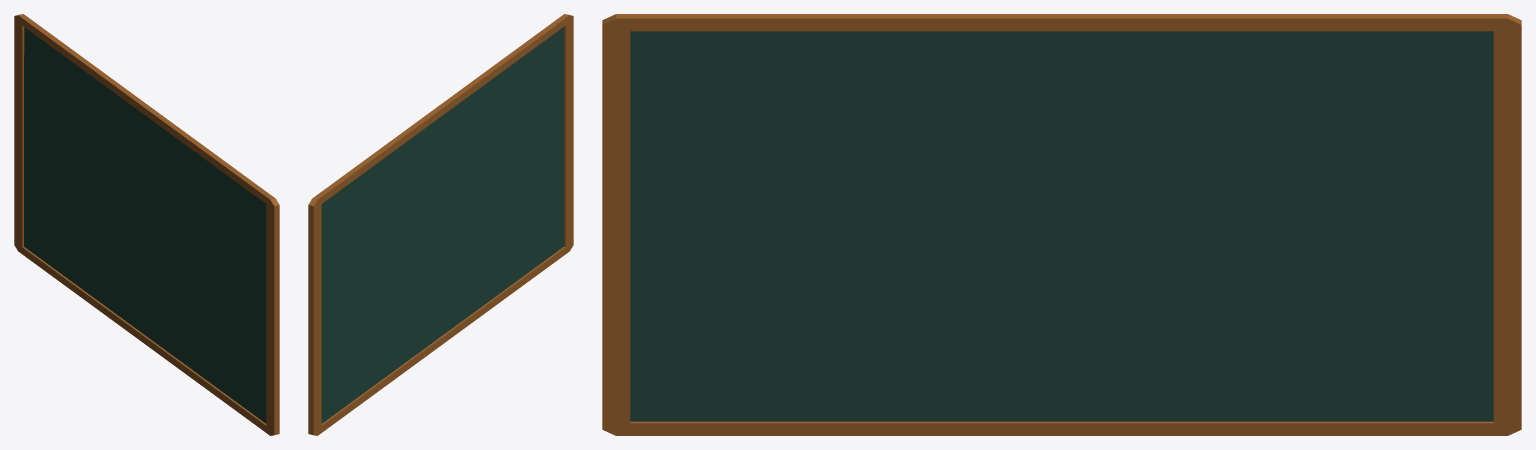
Rendered from Lavagna v2.fbx.
3 views of the same model, side by side, from view 1: azimuth 30°, elevation 25°; view 2: azimuth 150°, elevation 25°; view 3: azimuth 270°, elevation 25° (orthographic). The views are drawn at different scales.
Visible parts, largest first — view 1: Lavagna.001, Cornice; view 2: Lavagna.001, Cornice; view 3: Lavagna.001, Cornice.
Boxes of the visible parts, bbox=[...] form: Lavagna.001: bbox=[24, 27, 266, 423]; Cornice: bbox=[14, 14, 279, 435]; Lavagna.001: bbox=[321, 27, 563, 423]; Cornice: bbox=[308, 14, 573, 435]; Lavagna.001: bbox=[630, 31, 1493, 421]; Cornice: bbox=[602, 14, 1521, 435].
Bounding box in the file's own units: 3.9 × 160 × 320.
